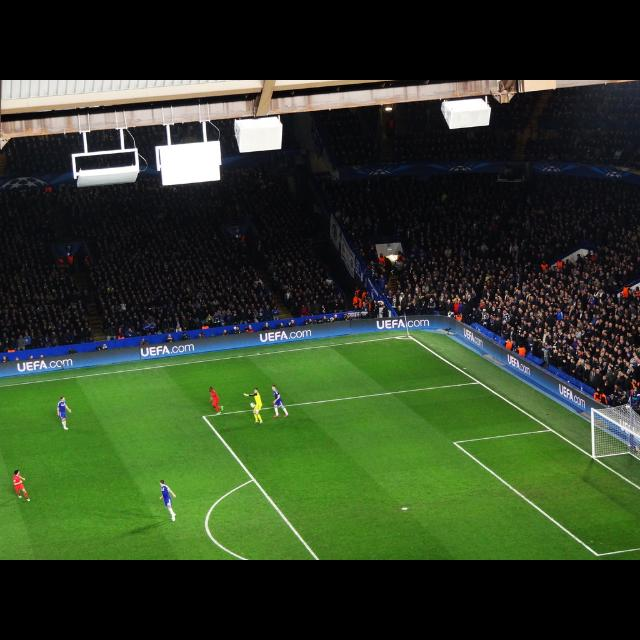Football: (250, 401, 254, 405)
